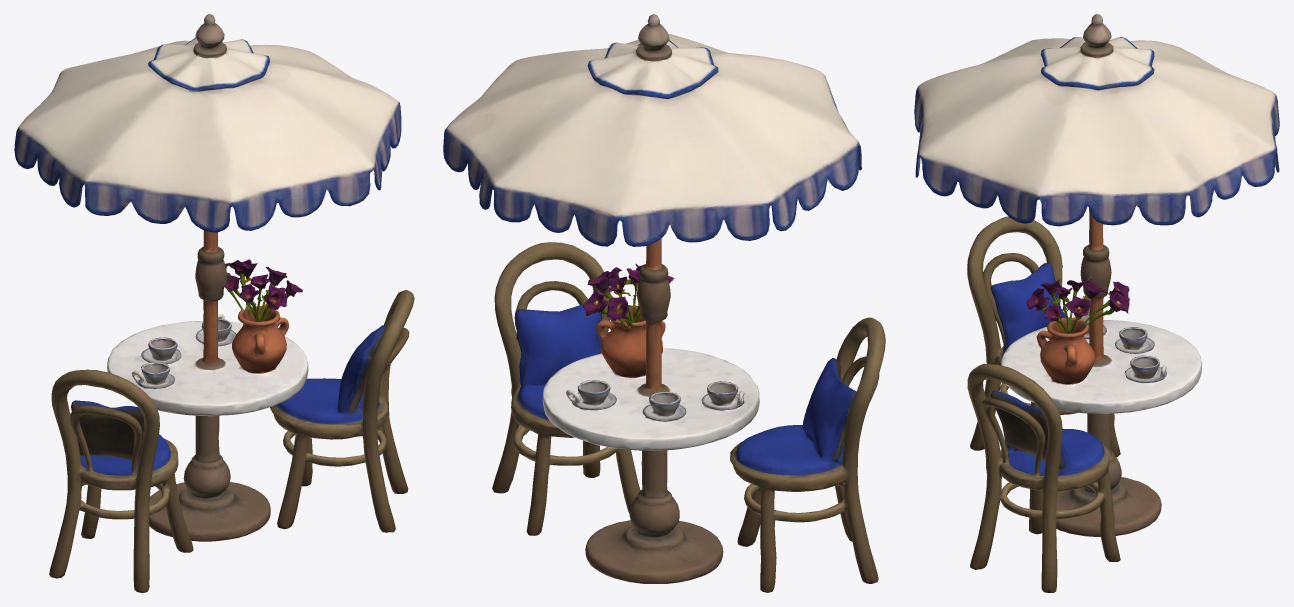
Rendered from cafe.glb.
3 views of the same model, side by side, from view 1: azimuth 30°, elevation 25°; view 2: azimuth 150°, elevation 25°; view 3: azimuth 270°, elevation 25° (orthographic). The views are drawn at different scales.
Visible parts, largest first — view 1: geometry_0; view 2: geometry_0; view 3: geometry_0.
Boxes of the visible parts, bbox=[...] form: geometry_0: bbox=[14, 14, 414, 592]; geometry_0: bbox=[443, 14, 885, 592]; geometry_0: bbox=[914, 14, 1279, 592].
Bounding box in the file's own units: 0.7429 × 1 × 0.6662.
Materials: 1 (1 with a texture image).
